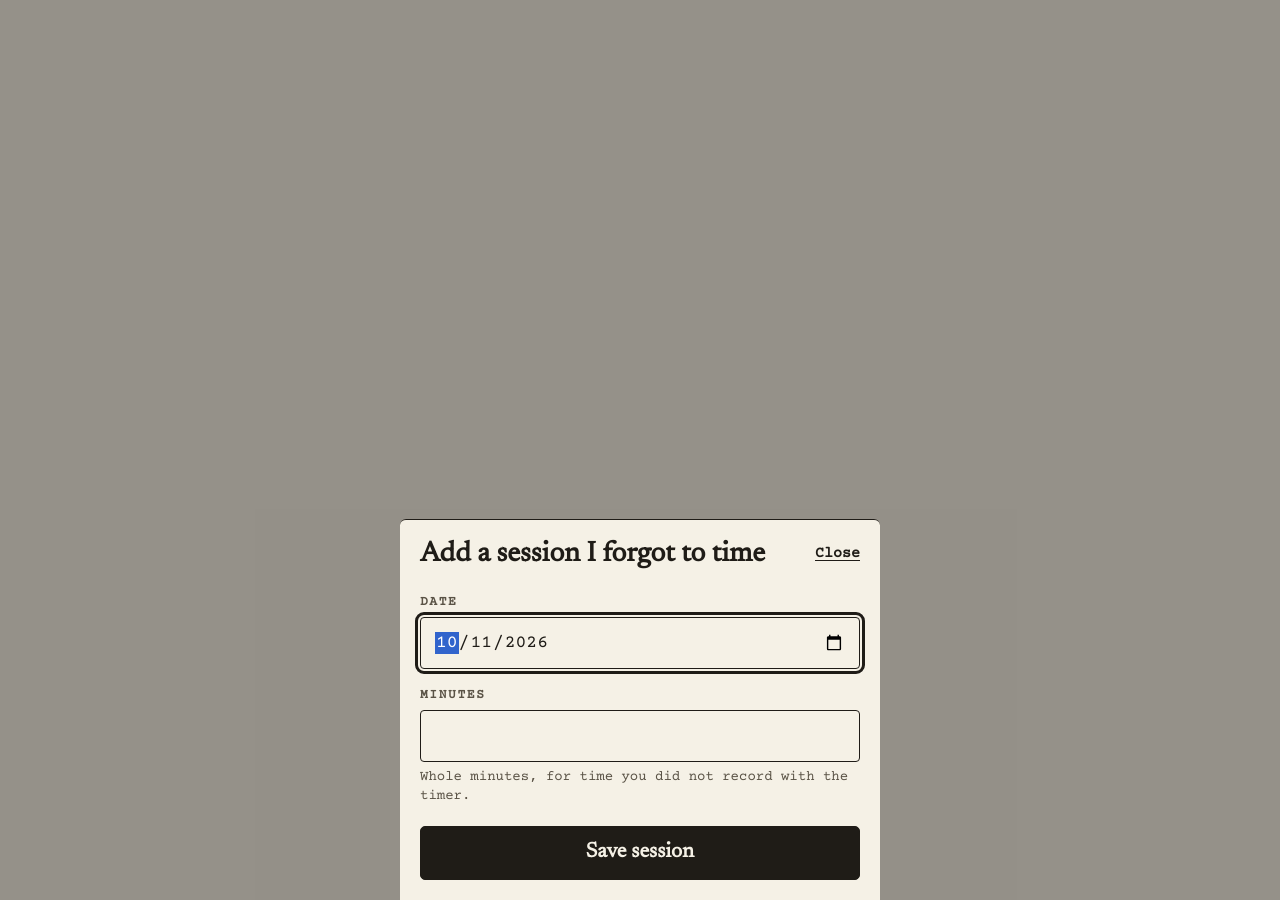
it: ManualEntrySheet › rejects a decimal minutes with "Enter whole minutes above 0" and stores nothing
Type "2.5" into the field labelled "Minutes". click: (640, 736)
box: [420, 710, 860, 762]
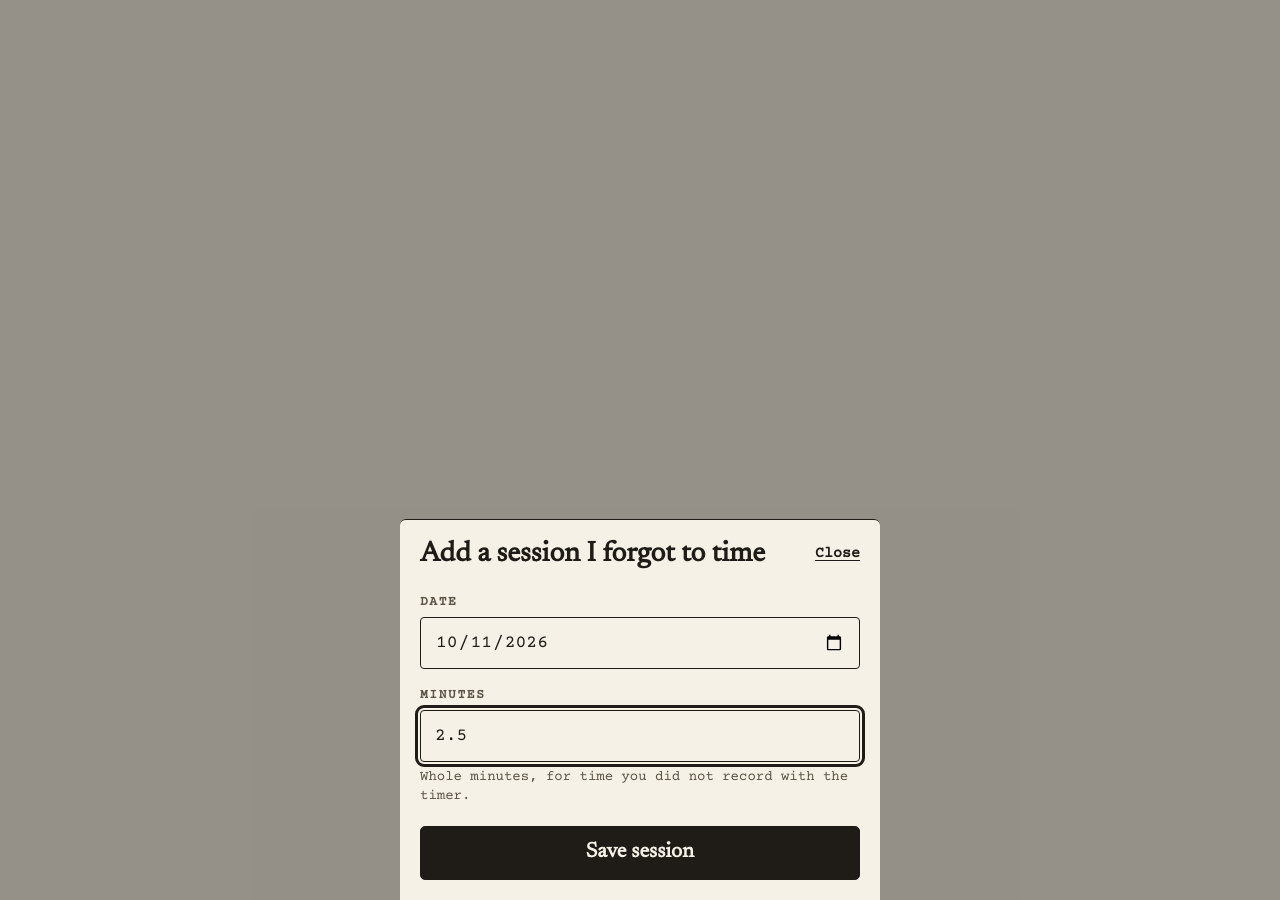
Click the button "Save session". click: (640, 853)
box: [420, 826, 860, 880]
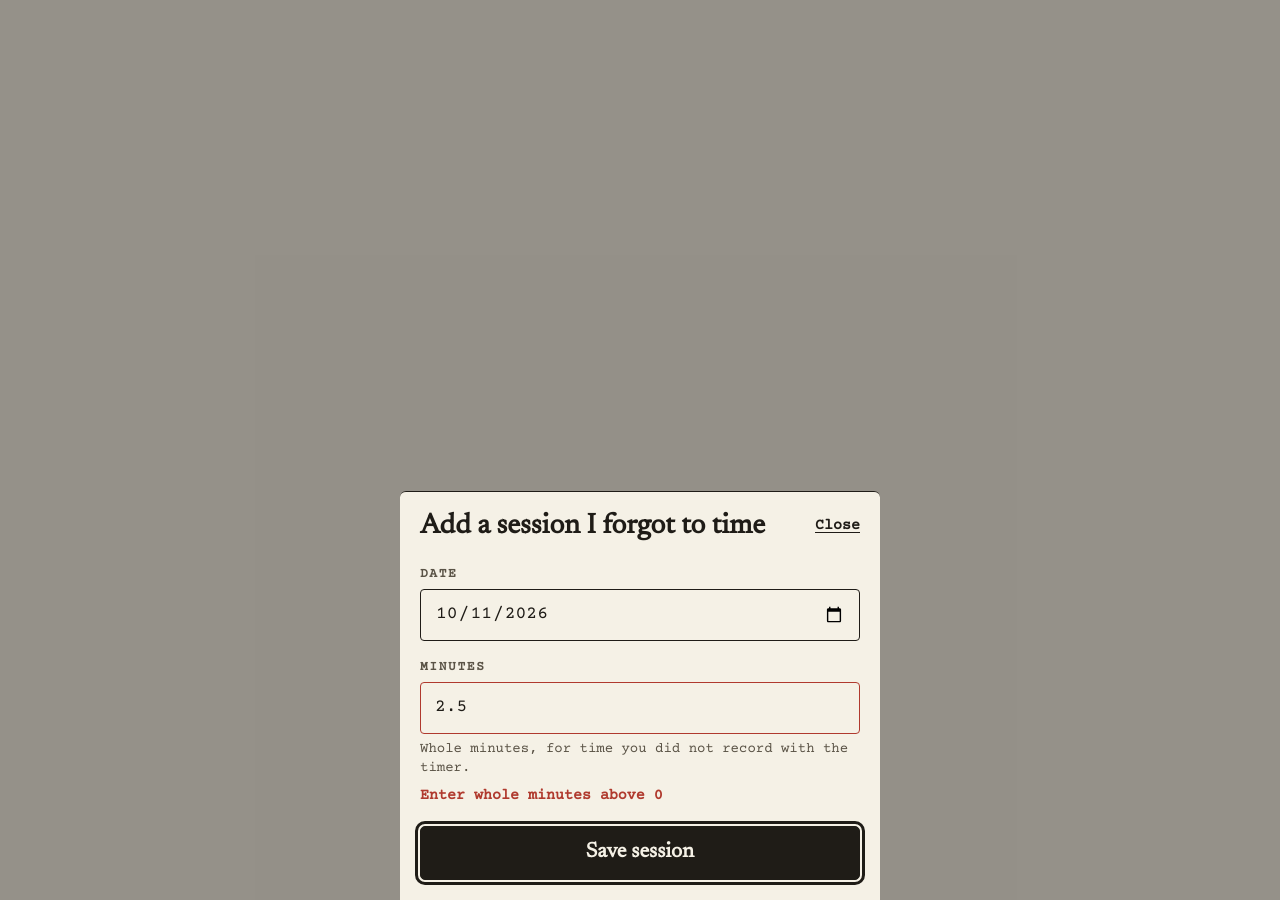
Check: the message reads "Enter whole minutes above 0", box [420, 787, 663, 804]
